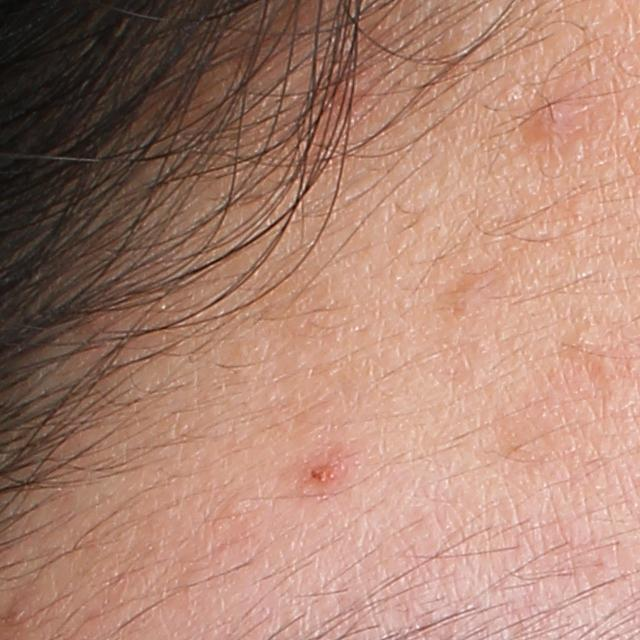comedo: (565, 190, 593, 216)
papule: (522, 96, 576, 139), (305, 458, 342, 484)
